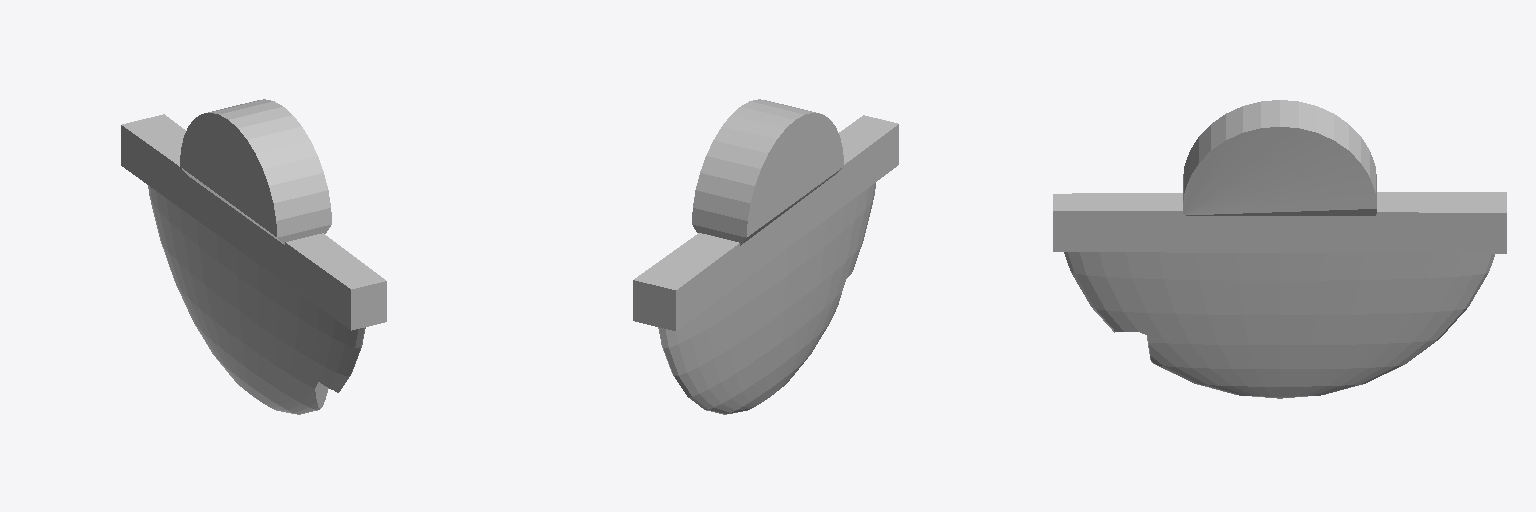
File: blade.obj
3 renders of one model, left to right at view 1: azimuth 30°, elevation 25°; view 2: azimuth 150°, elevation 25°; view 3: azimuth 270°, elevation 25°, orthographic.
Parts seen in each view (by area): view 1: Sphere, Cylinder, Cube_Cube.002; view 2: Sphere, Cube_Cube.002, Cylinder; view 3: Sphere, Cube_Cube.002, Cylinder.
Part boxes in pixels (bbox=[...]): Sphere: bbox=[148, 185, 365, 414]; Cylinder: bbox=[180, 99, 331, 244]; Cube_Cube.002: bbox=[121, 114, 386, 330]; Sphere: bbox=[658, 183, 875, 414]; Cube_Cube.002: bbox=[633, 115, 898, 330]; Cylinder: bbox=[692, 99, 843, 245]; Sphere: bbox=[1064, 252, 1494, 398]; Cube_Cube.002: bbox=[1053, 192, 1506, 253]; Cylinder: bbox=[1183, 100, 1376, 215].
Bounding box in the file's own units: 0.28 × 1.39 × 2.